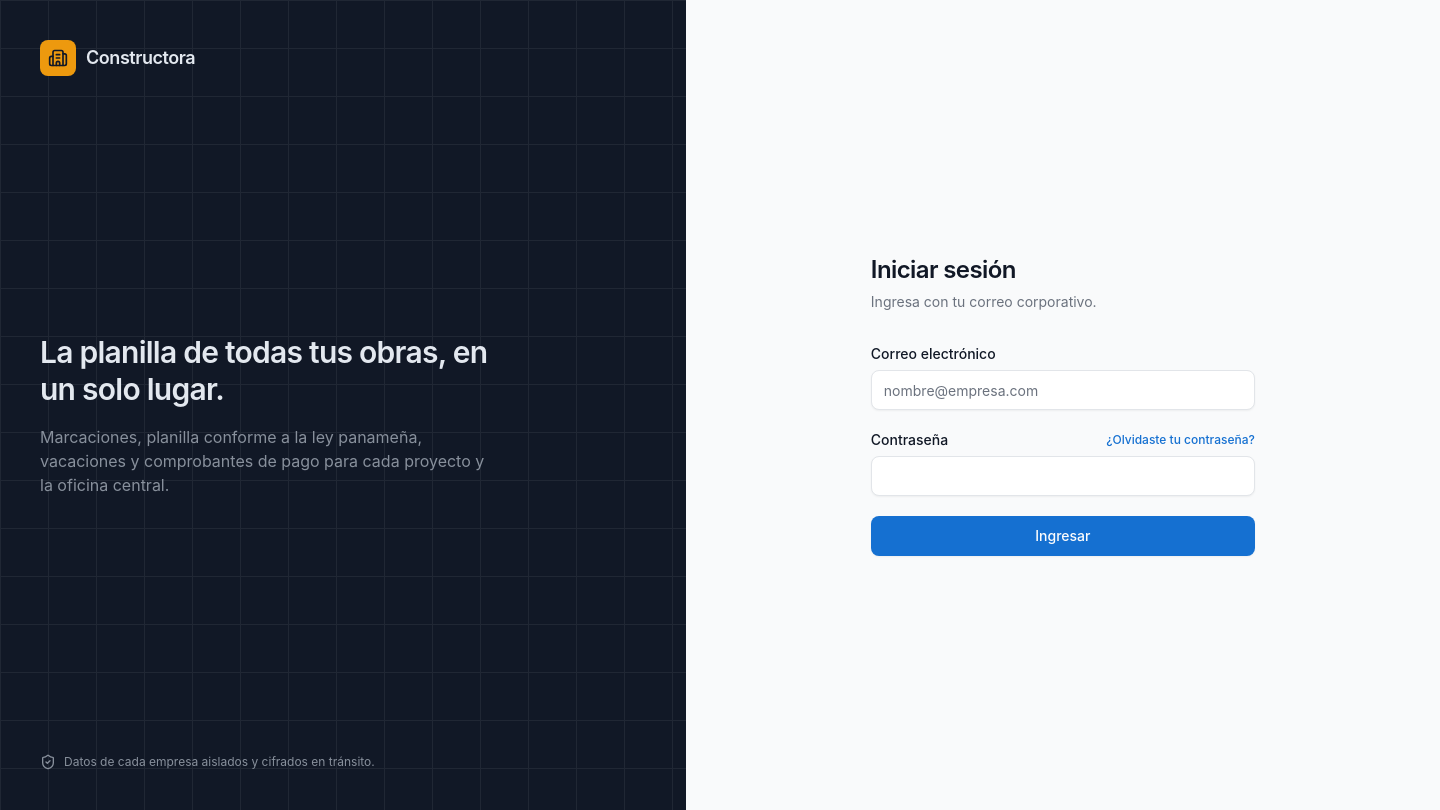
Test: LoginPage › muestra el error del servidor
The width and height of the screenshot is (1440, 810).
In the field labelled "Correo electrónico": (1063, 390) top-left (871, 370), bottom-right (1255, 410), type "ana@constructora.pa"
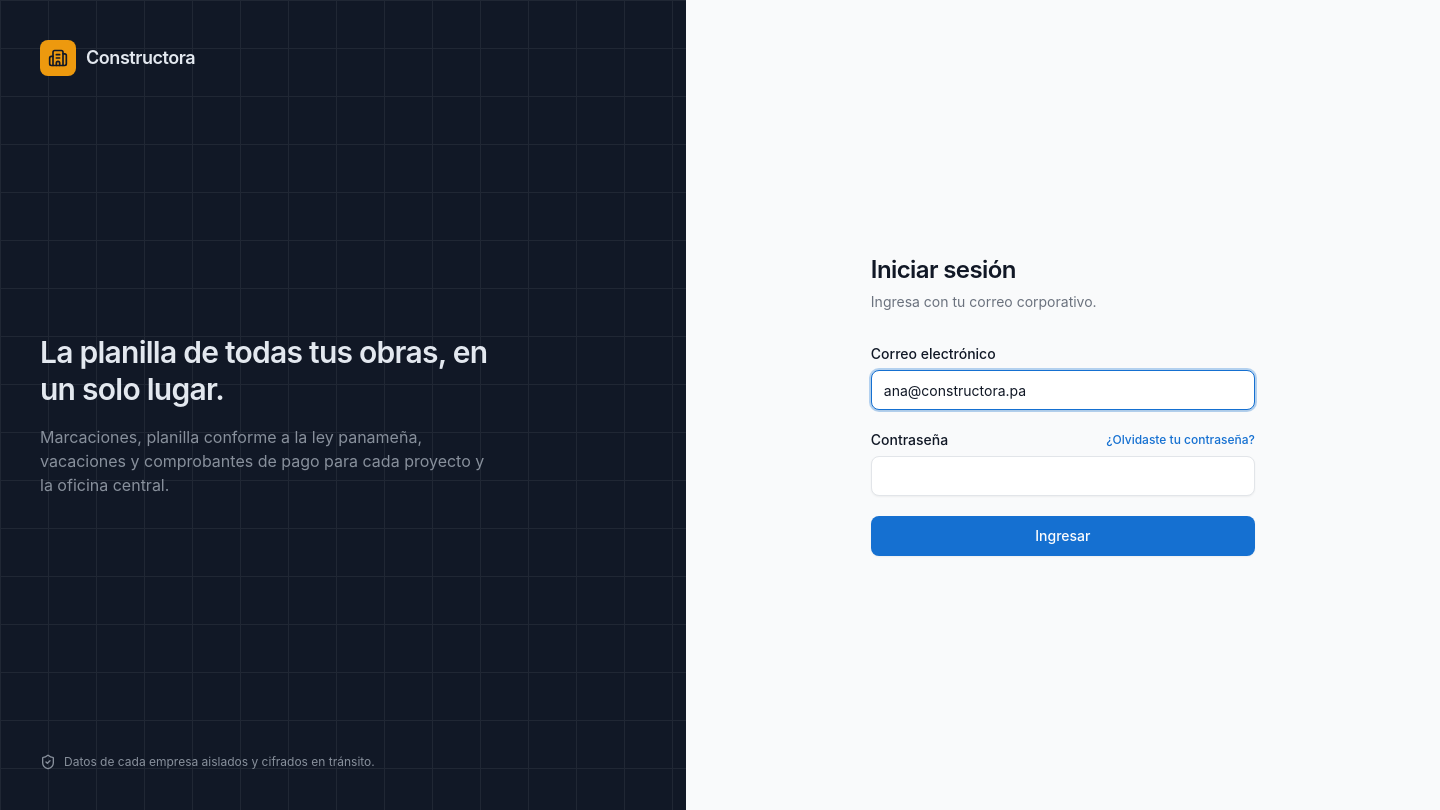
In the password field labelled "Contraseña": (1063, 476) top-left (871, 456), bottom-right (1255, 496), type "mala"
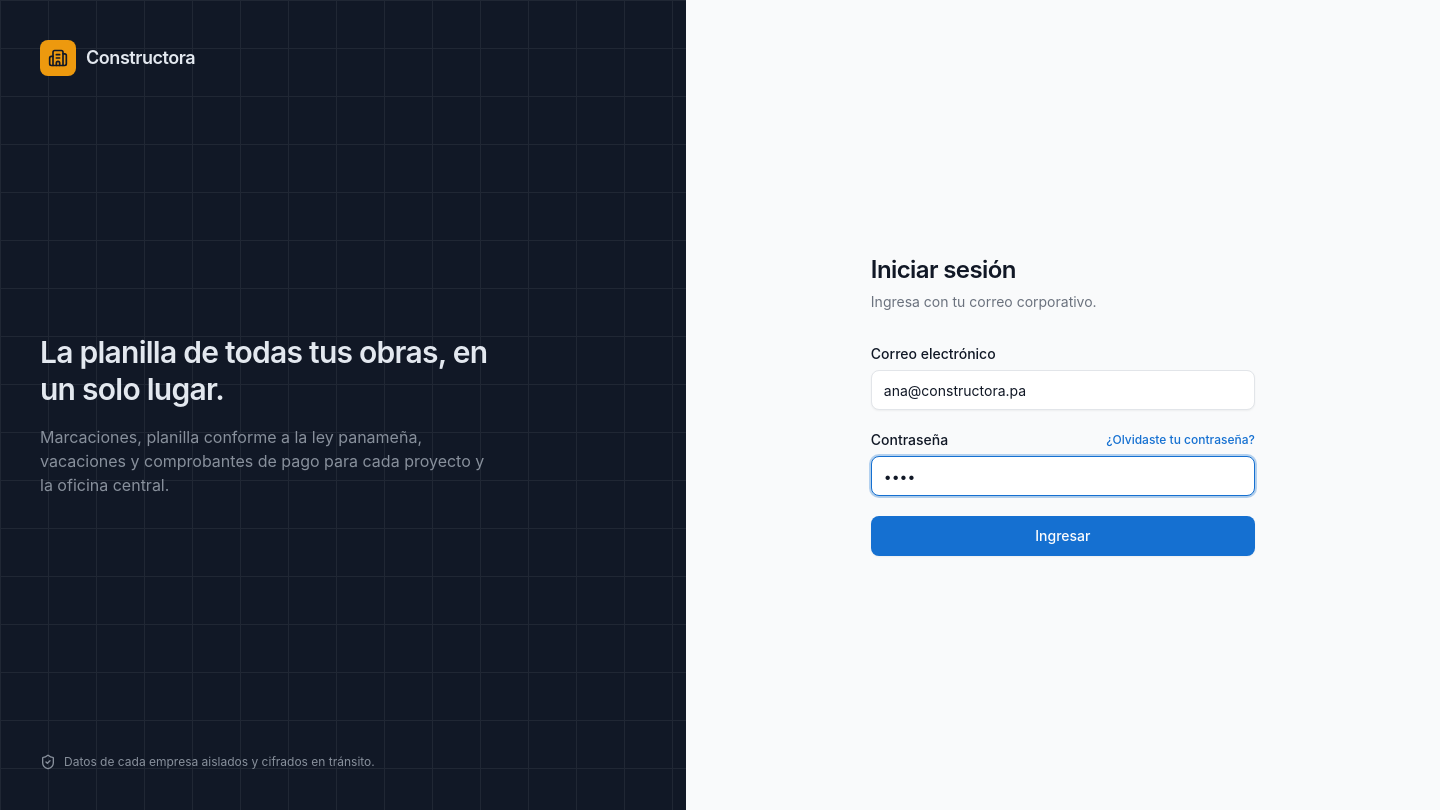
Click the button "Ingresar": (1063, 536) top-left (871, 516), bottom-right (1255, 556)
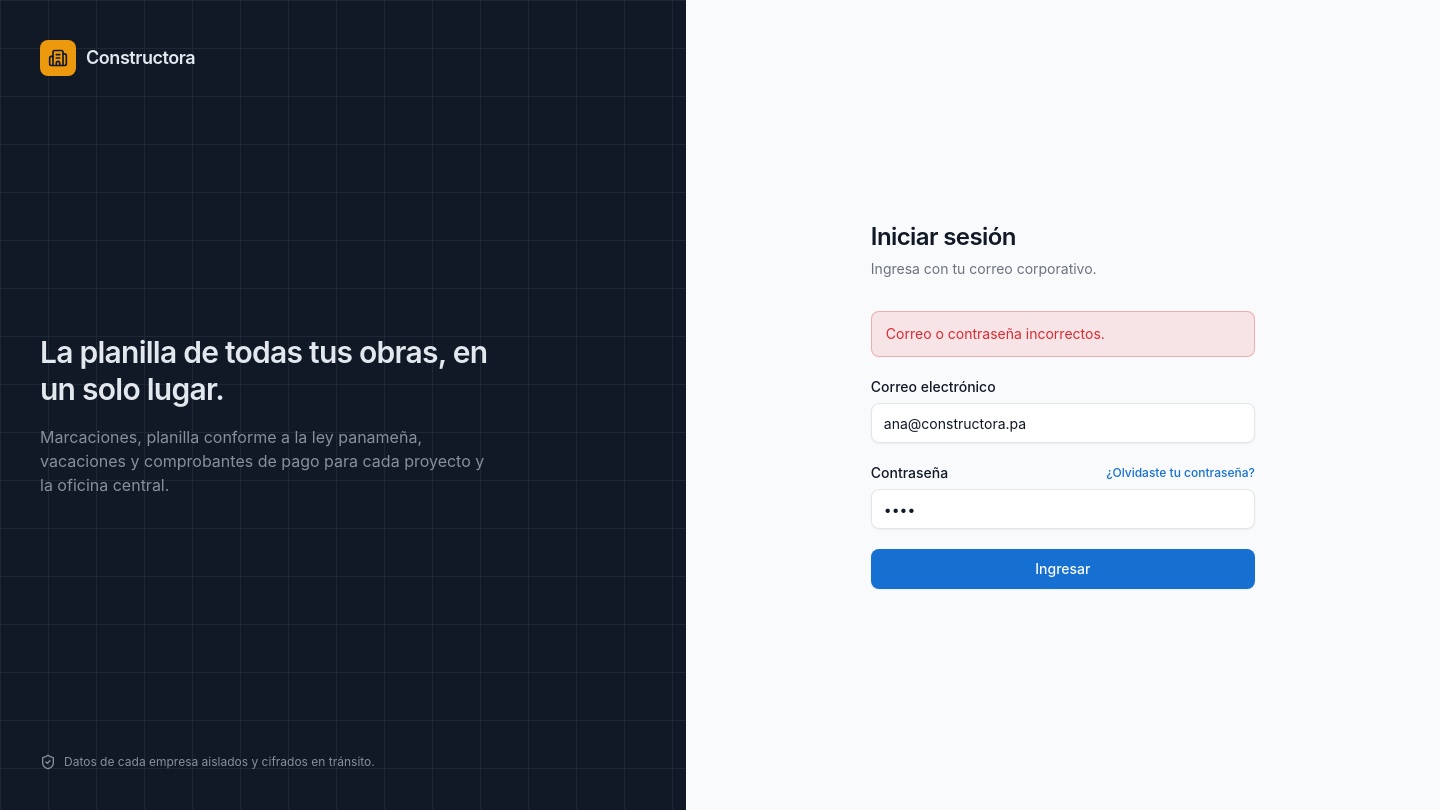
Now the message reads "Correo o contraseña incorrectos.", box top-left (886, 325), bottom-right (1105, 342)
